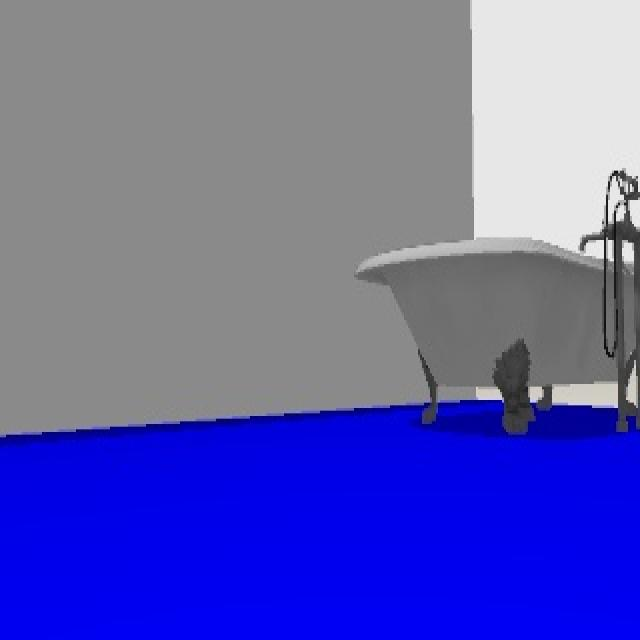bathtub: (352, 171, 640, 437)
